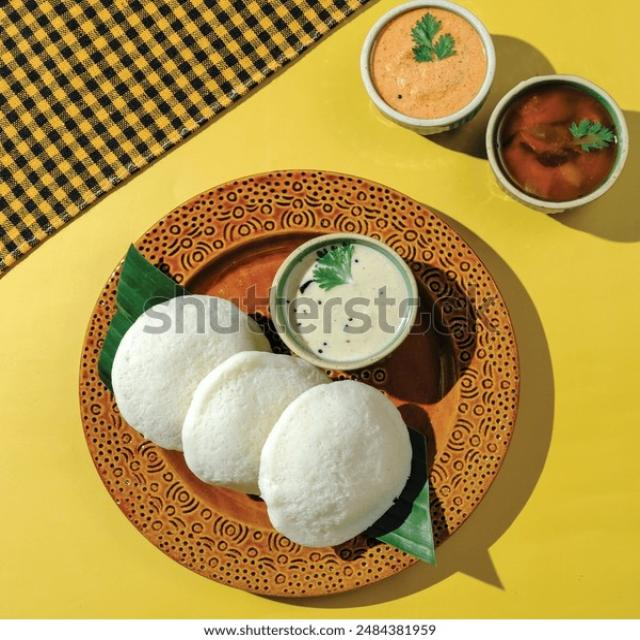IDLI: (249, 381, 412, 544), (117, 296, 262, 451), (187, 353, 326, 494)
